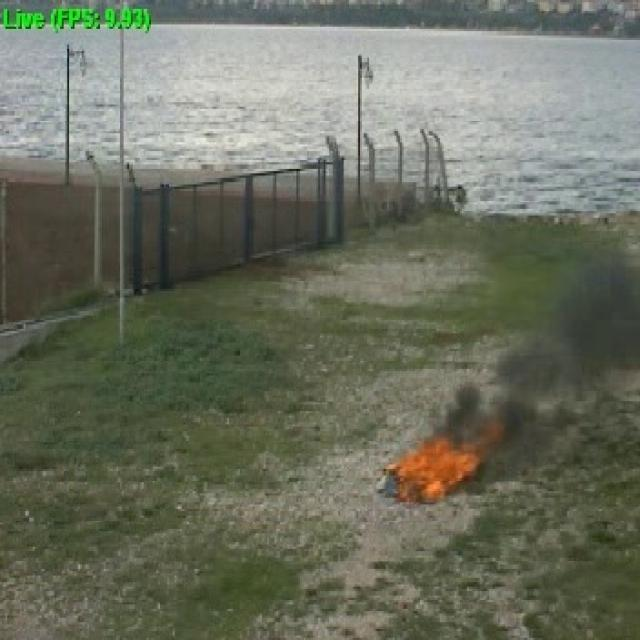fire: (390, 434, 457, 496)
